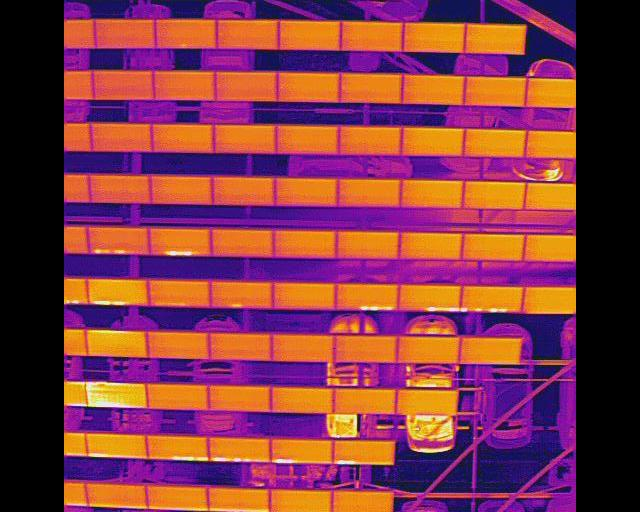Cell: (211, 279, 274, 308)
Cell-Multi: (462, 284, 524, 312)
No-Anomaly: (340, 71, 404, 102), (404, 21, 466, 53), (88, 173, 151, 204), (278, 70, 341, 101), (93, 18, 158, 48), (210, 228, 274, 258), (340, 20, 403, 50), (154, 19, 217, 49), (215, 19, 278, 49), (337, 125, 402, 154), (334, 333, 399, 362), (400, 73, 465, 102), (93, 69, 158, 98), (148, 175, 213, 204), (214, 70, 279, 99), (338, 177, 402, 206), (401, 125, 465, 154), (276, 125, 340, 154), (465, 23, 526, 53), (466, 74, 527, 104), (464, 127, 527, 156), (401, 178, 464, 207), (272, 385, 335, 414), (271, 331, 334, 360), (85, 328, 150, 356), (273, 229, 338, 257), (91, 122, 155, 150), (275, 177, 339, 205), (211, 177, 275, 205), (278, 20, 342, 48), (148, 280, 211, 308), (209, 332, 272, 360), (273, 281, 336, 309), (151, 70, 216, 97), (399, 232, 463, 259), (83, 481, 147, 508), (150, 124, 214, 151), (397, 387, 460, 414), (398, 335, 461, 362), (463, 180, 526, 207), (331, 388, 396, 414), (212, 125, 277, 151), (336, 230, 398, 257), (461, 233, 525, 259), (144, 331, 210, 356), (208, 384, 271, 410), (147, 383, 209, 409), (207, 486, 271, 511), (145, 484, 210, 508), (460, 336, 522, 361), (331, 489, 394, 512), (270, 489, 332, 512)
Unclassified: (335, 282, 400, 310), (88, 225, 149, 254), (88, 278, 151, 305), (149, 227, 212, 254), (400, 284, 462, 310), (270, 437, 334, 462), (85, 381, 148, 406), (86, 432, 149, 457), (146, 434, 209, 459), (208, 436, 270, 461), (333, 440, 394, 464)
